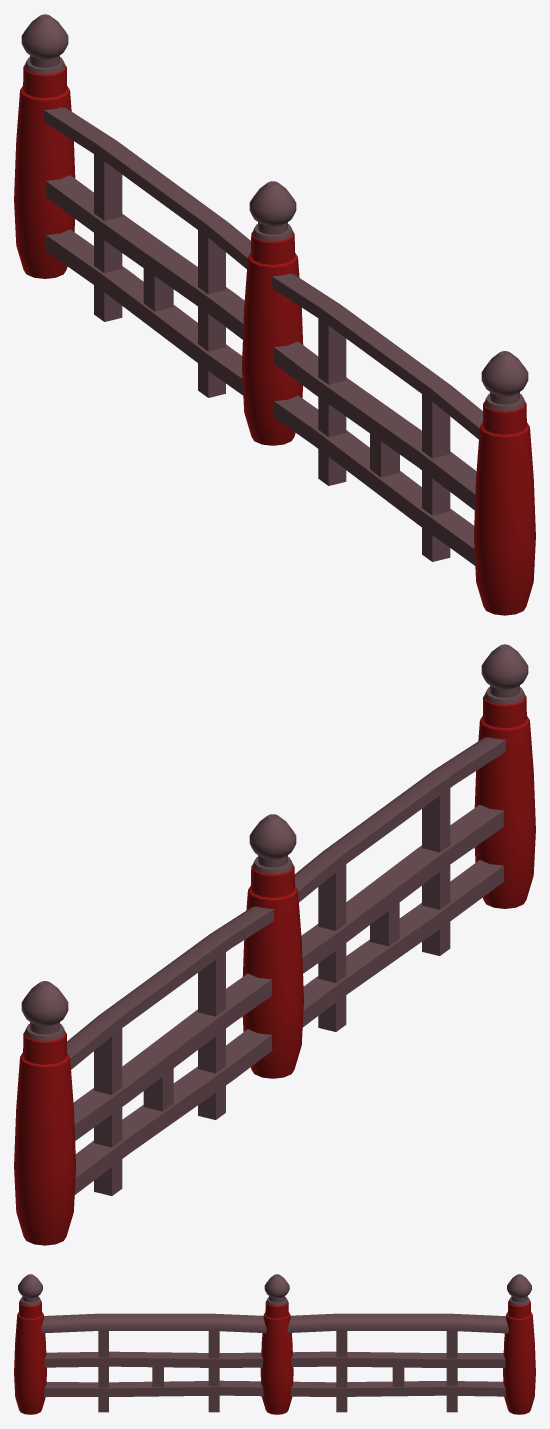
File: wooden_fence.fbx
3 views of the same model, one above another, from view 1: azimuth 30°, elevation 25°; view 2: azimuth 150°, elevation 25°; view 3: azimuth 270°, elevation 25° (orthographic). The views are drawn at different scales.
Visible parts, largest first — view 1: wooden_fence; view 2: wooden_fence; view 3: wooden_fence.
Boxes of the visible parts, x1=… form: wooden_fence: x1=14, y1=14, x2=535, y2=615; wooden_fence: x1=14, y1=644, x2=535, y2=1245; wooden_fence: x1=14, y1=1274, x2=535, y2=1414.
Size of the model in its own units: 31.95 by 144 by 505.
